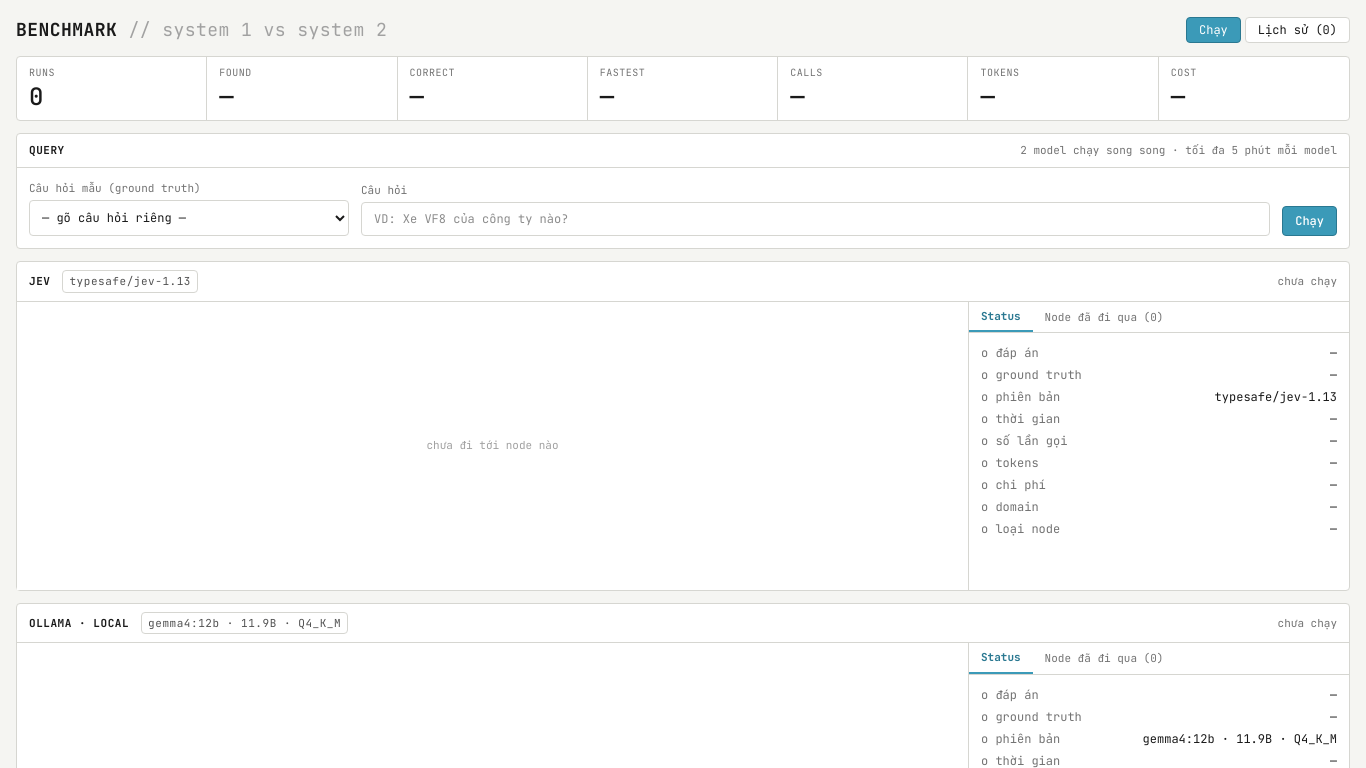
BenchmarkPage › editing the question detaches it from the ground-truth case
This screenshot has width=1366, height=768.
Select "vinfast-008 · 1 bước · Xe VF 8 của công ty nào?" in the dropdown labelled "Câu hỏi mẫu (ground truth)" at (189, 218), box [29,200,349,236]
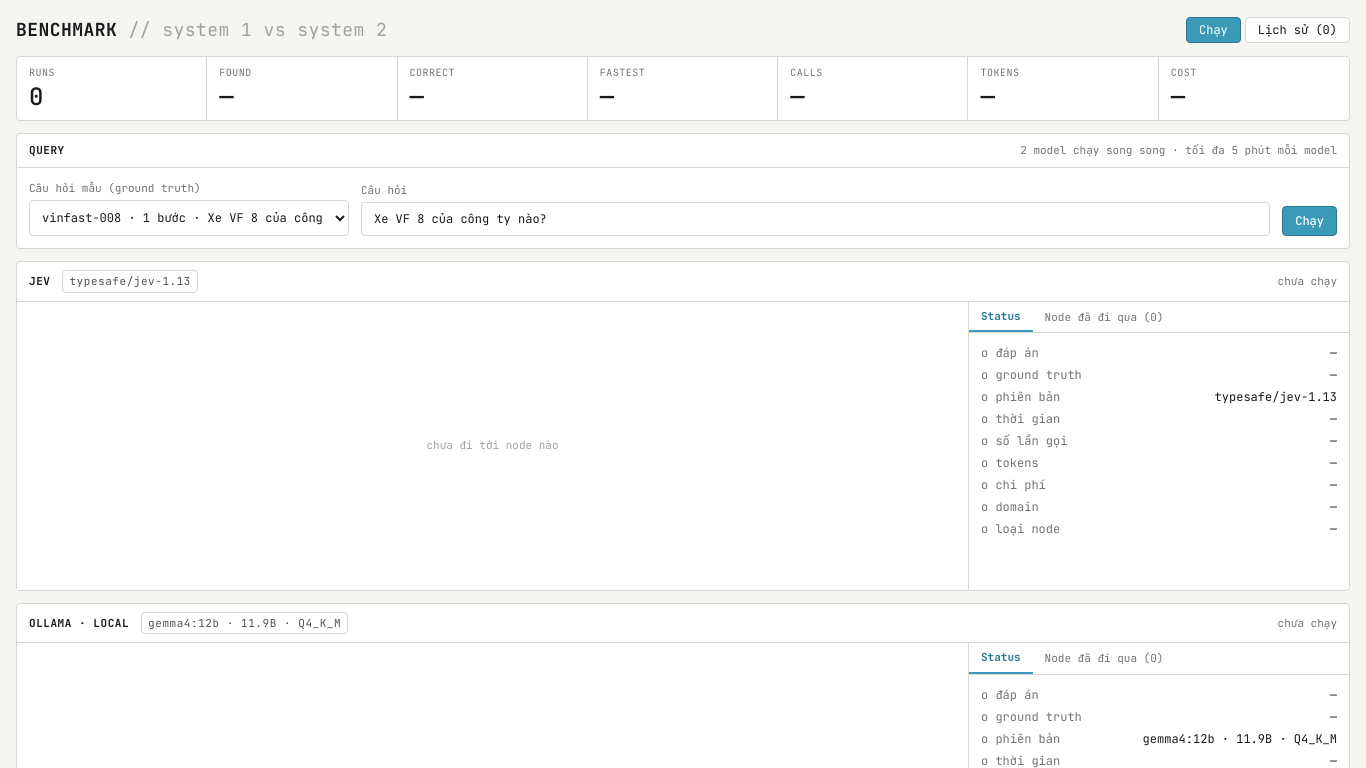
Replace the text in the field labelled "Câu hỏi" with "Câu khác" at (816, 219), box [361,202,1270,236]
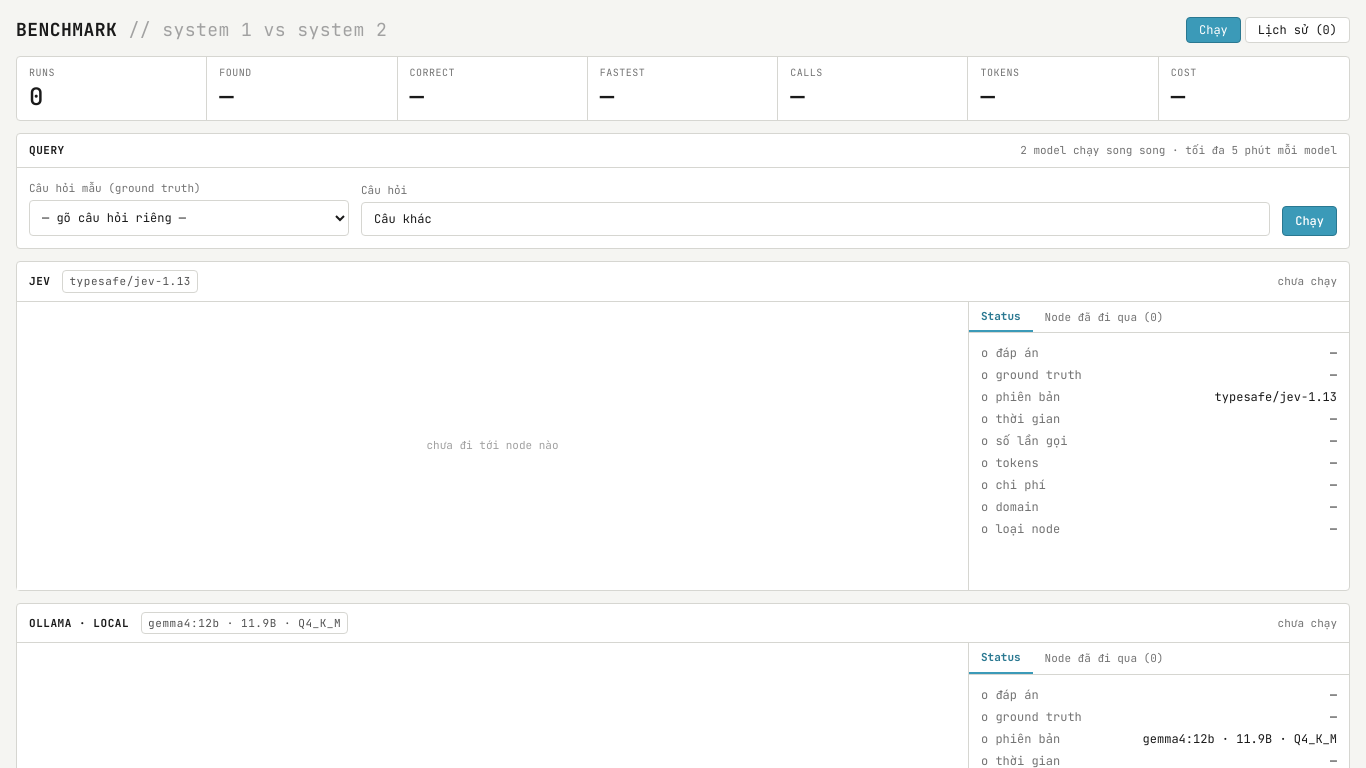
Click the button "Chạy" at (1310, 221), box [1282,206,1337,236]
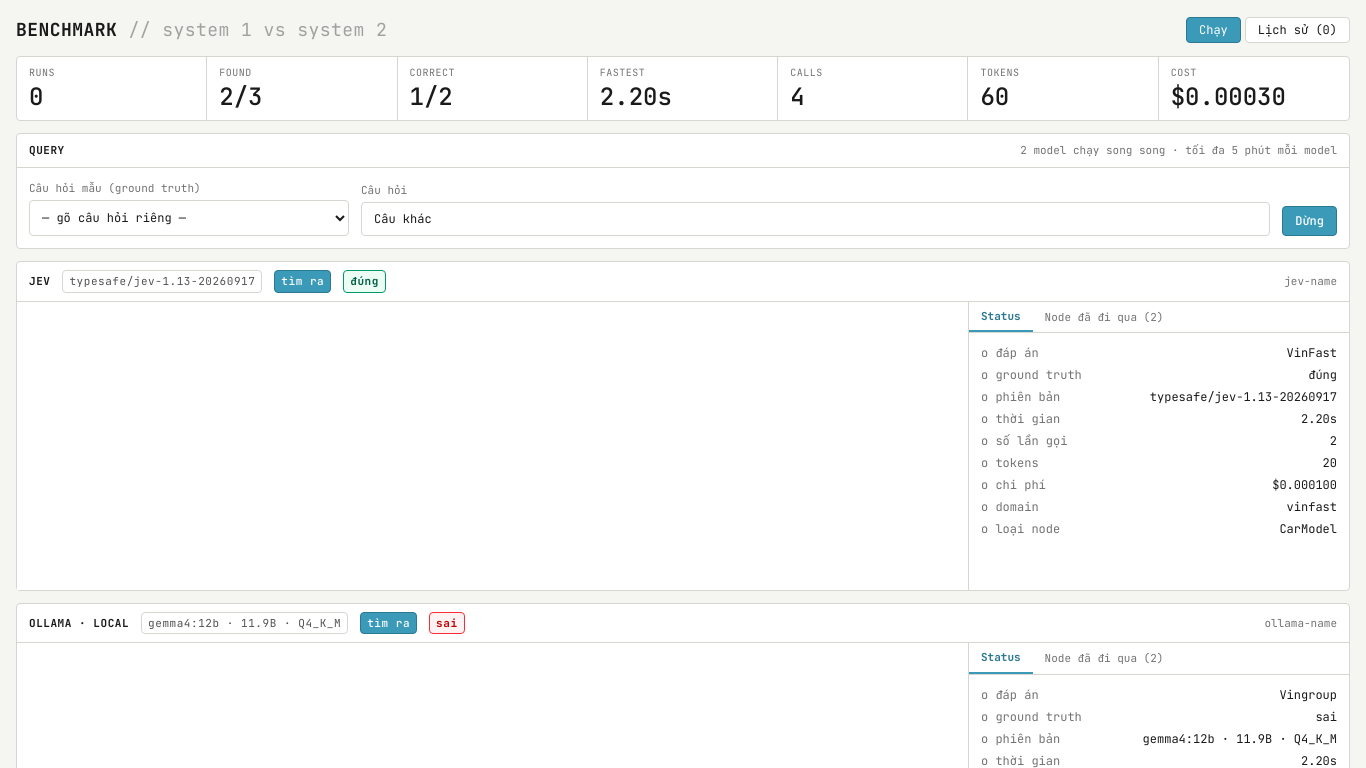
Check: the button "Dừng" is shown, box [1282,206,1337,236]
